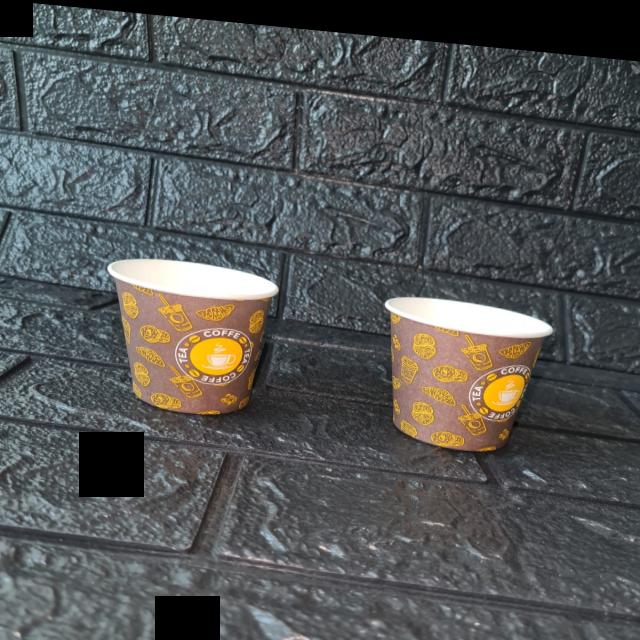cups: (379, 284, 562, 450), (107, 251, 283, 412)
